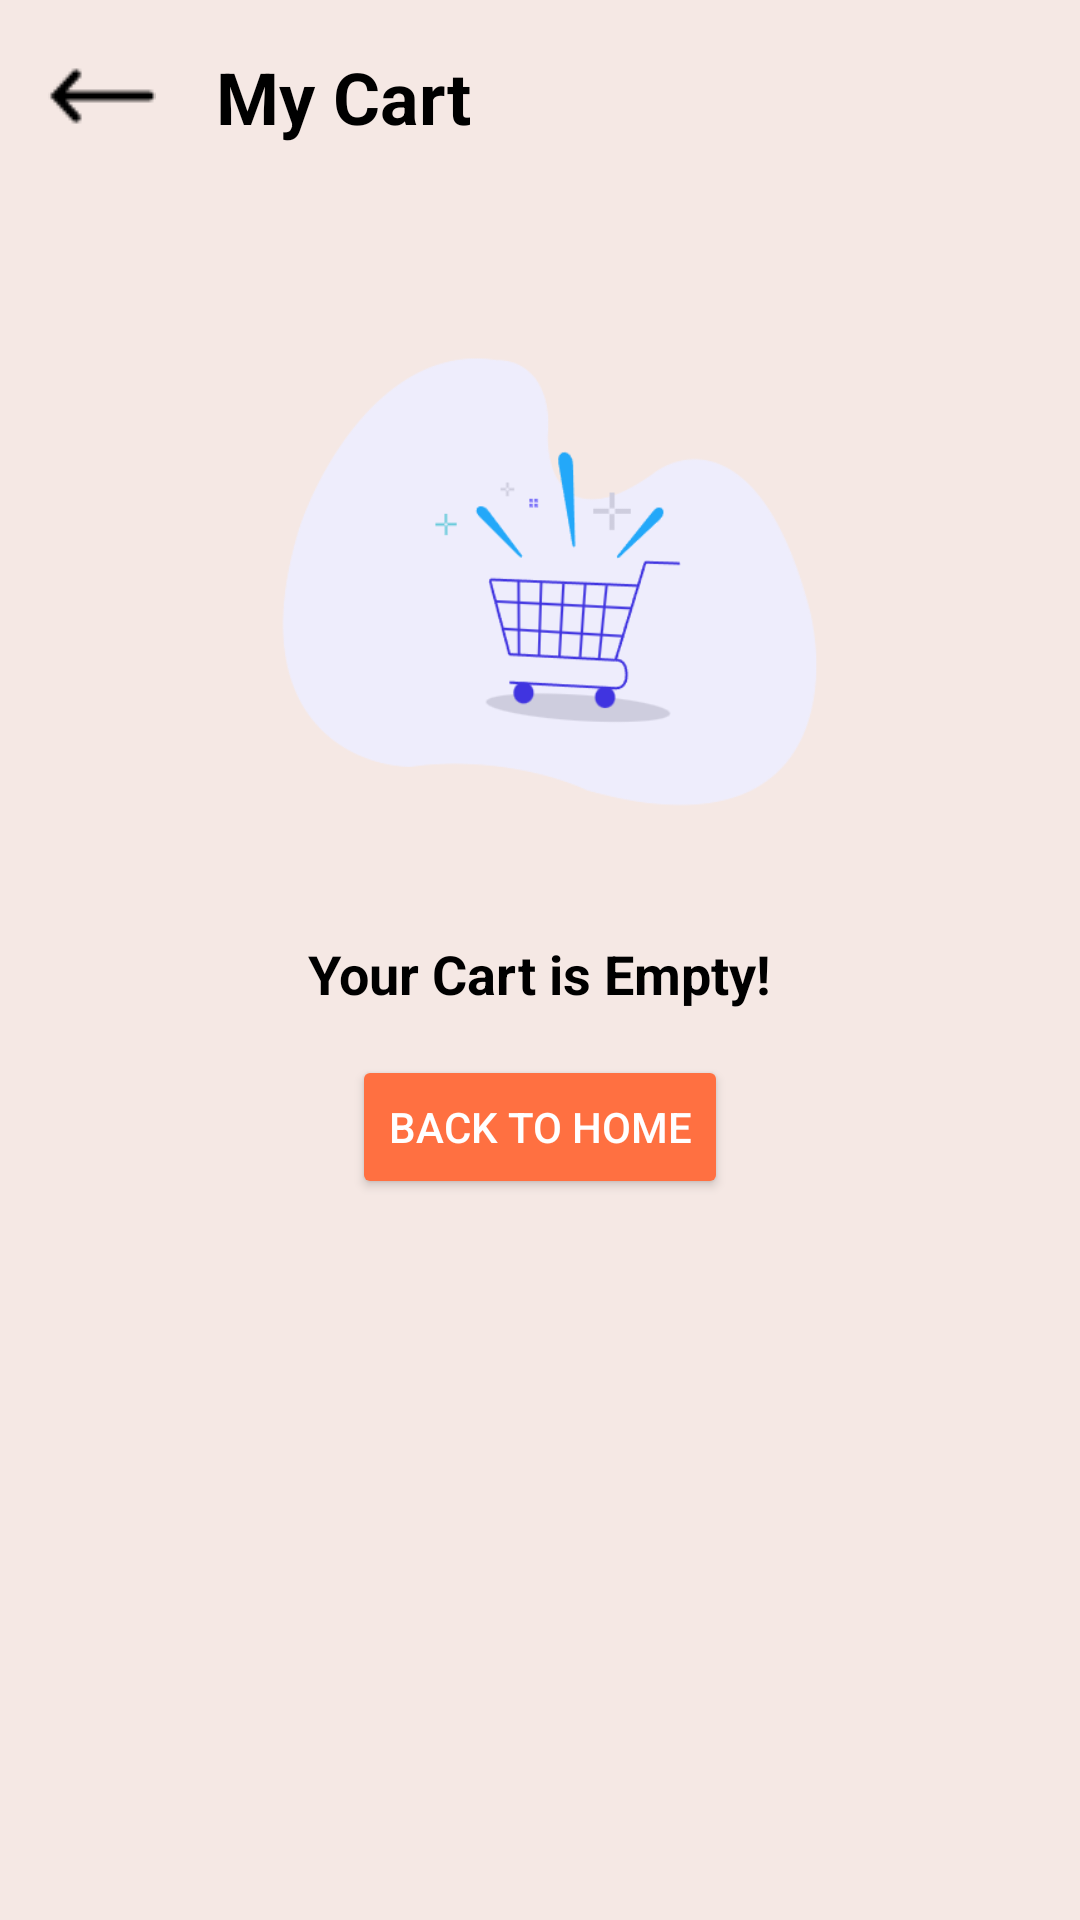

Point at icon controls on the screen. Image size 1080px×1920px, points as point (x, y).
back: point (103, 96)
